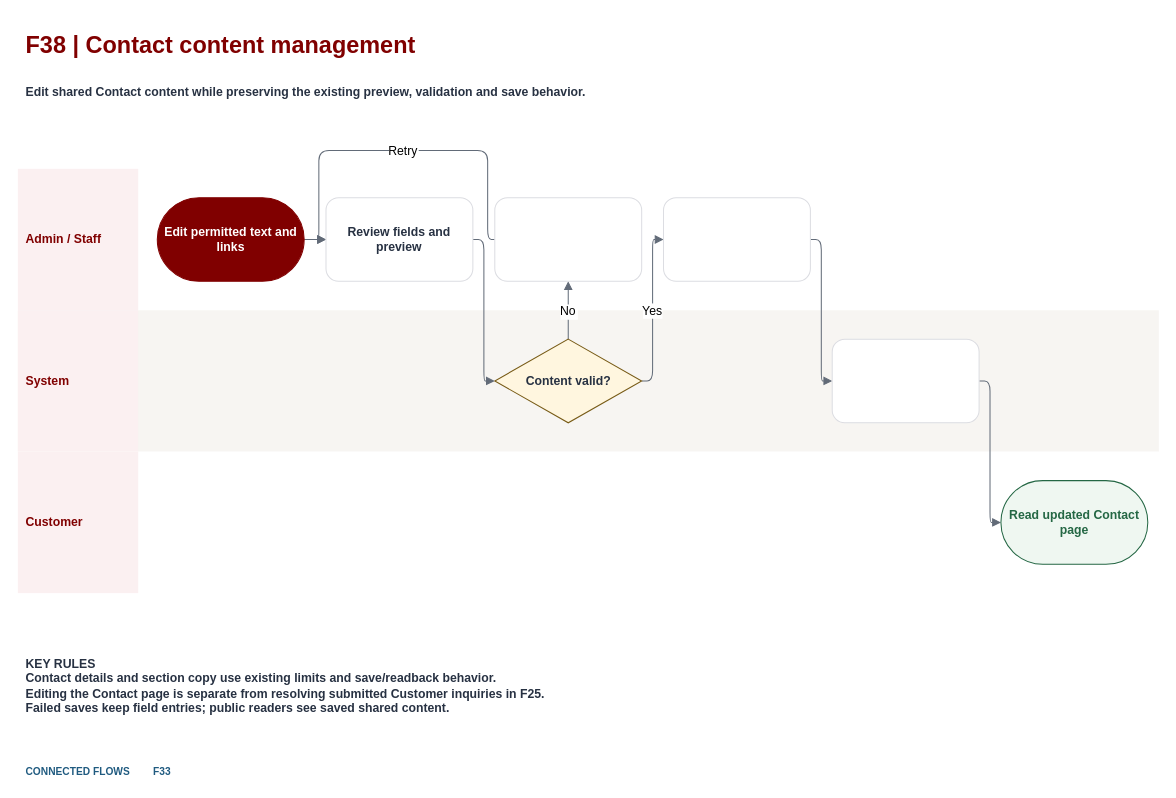
This 1176x798 diagram has some shape labels left out. Here are the shapes that lost their labels. From the top down, the box of each, then its label:
(494, 197, 642, 281): Correct fields; retain draft
(662, 197, 810, 281): Save existing page changes
(831, 338, 979, 423): Persist and publish shared content
